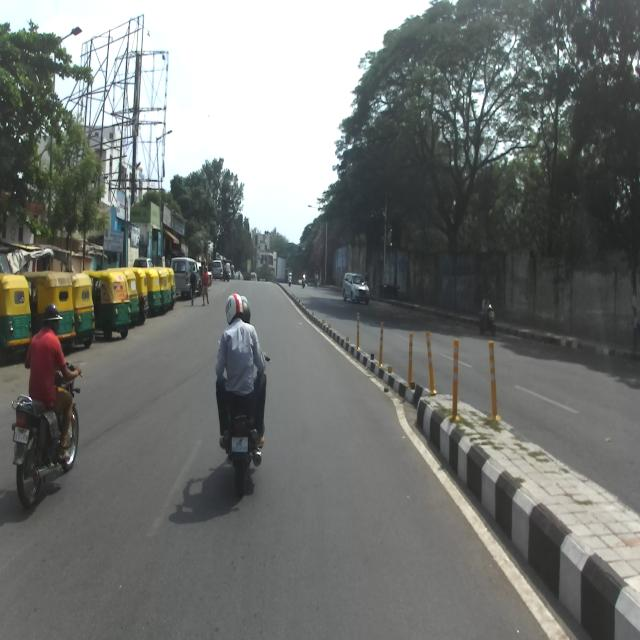auto ahead at: (98, 270, 136, 346)
motorcycle ahead at: (6, 390, 80, 512), (213, 396, 270, 486)
